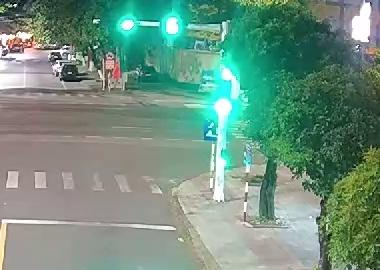green_light: (214, 60, 240, 115), (150, 11, 186, 37), (113, 13, 138, 36)
stop_line: (2, 215, 189, 233)
